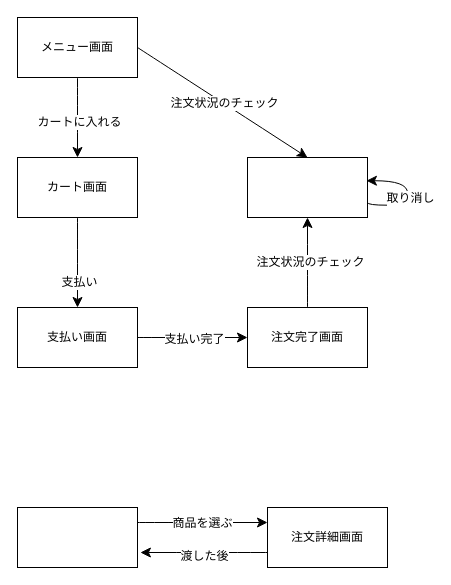
Image size: 451x585. Some labels were removed from this diagram. Here are the shapes that lost their labels. From the top down, the centre of each, then its label:
At pixel 307 187: "注文状況確認画面".
At pixel 77 537: "注文一覧画面".
